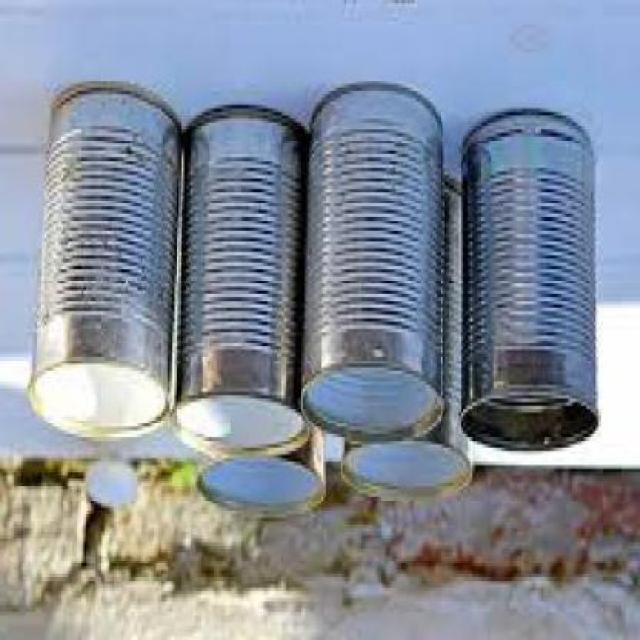METAL: (30, 81, 184, 444), (303, 84, 445, 450), (172, 104, 312, 462), (458, 108, 600, 454), (341, 171, 477, 504), (195, 430, 328, 518)
